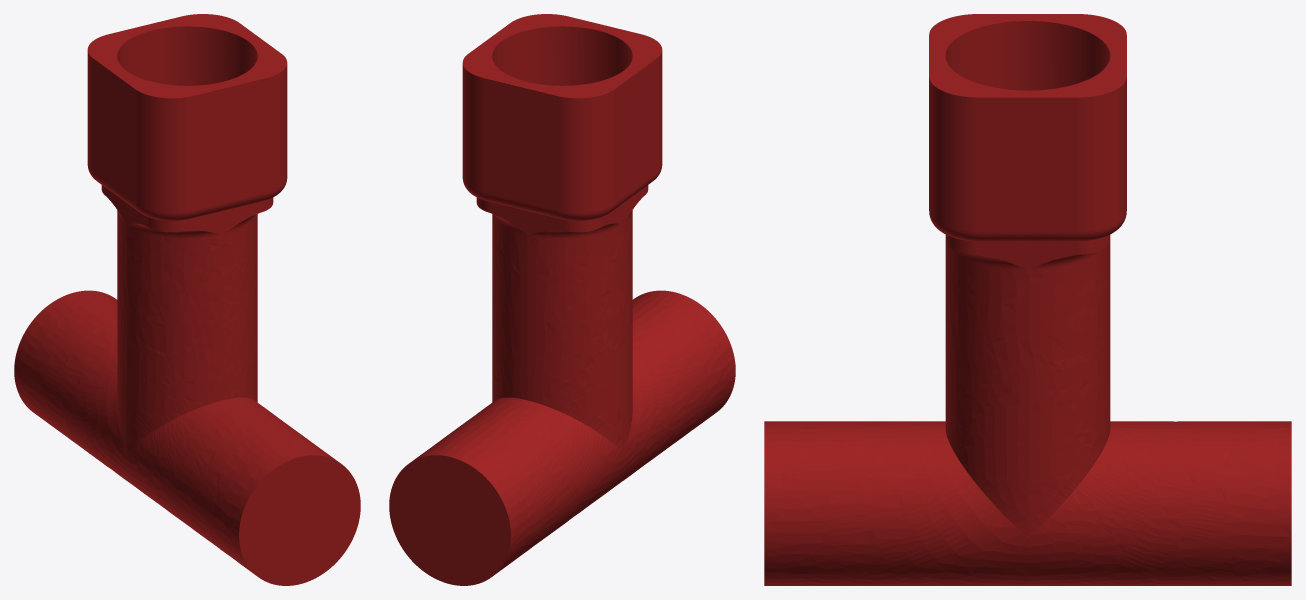
The model's file is joint5.dae.
The picture shows the model from 3 angles, left to right: view 1: azimuth 30°, elevation 25°; view 2: azimuth 150°, elevation 25°; view 3: azimuth 270°, elevation 25°; orthographic projection. The views are drawn at different scales.
Parts seen in each view (by area): view 1: node0; view 2: node0; view 3: node0.
Boxes of the visible parts, x1=… form: node0: x1=14, y1=14, x2=360, y2=585; node0: x1=389, y1=14, x2=735, y2=585; node0: x1=764, y1=14, x2=1291, y2=585.
Bounding box in the file's own units: 0.06 × 0.16 × 0.175.
